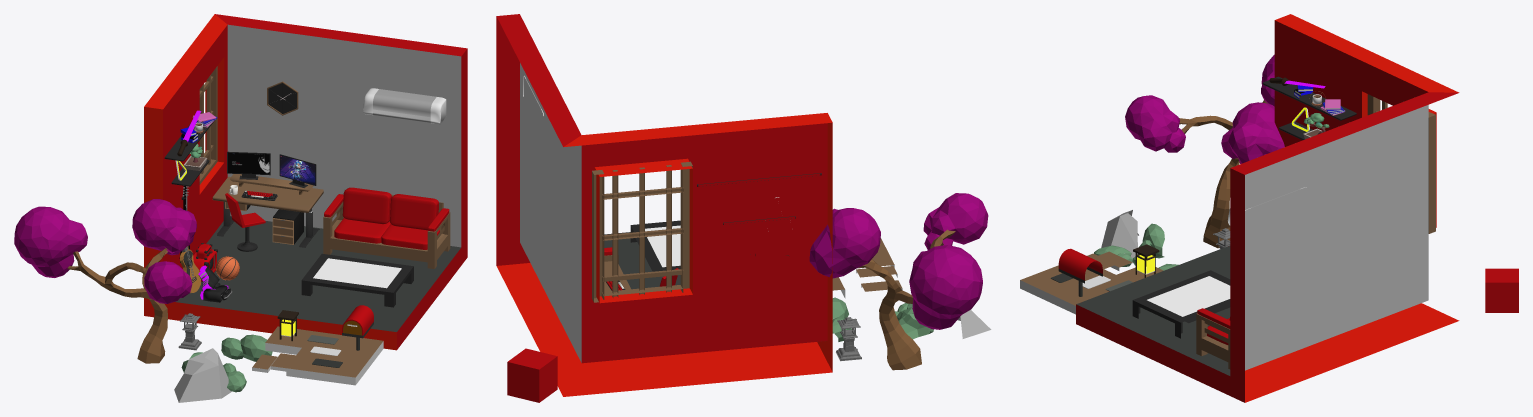
The model's file is room_v3.glb.
3 renders of one model, left to right at view 1: azimuth 30°, elevation 25°; view 2: azimuth 150°, elevation 25°; view 3: azimuth 270°, elevation 25°, orthographic. The views are drawn at different scales.
Visible parts, largest first — view 1: Body, DecoExt, Furnitures, MiniFloor, Hobbies, AirConditioner, Computers, Shelves, FloorItems, TableStuff, Clock, Mailbox (+1 smaller); view 2: Body, DecoExt, Cube, Furnitures, MiniFloor; view 3: Body, DecoExt, Furnitures, MiniFloor, Shelves, Cube, Mailbox, ExteriorLamp.
Part boxes in pixels (left/top/right/bottom): Body: left=144, top=14, right=467, bottom=350; DecoExt: left=14, top=199, right=272, bottom=402; Furnitures: left=212, top=176, right=450, bottom=307; MiniFloor: left=265, top=326, right=383, bottom=385; Hobbies: left=179, top=186, right=239, bottom=302; AirConditioner: left=363, top=88, right=446, bottom=124; Computers: left=227, top=151, right=316, bottom=187; Shelves: left=164, top=110, right=217, bottom=186; FloorItems: left=225, top=193, right=303, bottom=251; TableStuff: left=229, top=174, right=313, bottom=200; Clock: left=267, top=81, right=298, bottom=115; Mailbox: left=342, top=305, right=373, bottom=350; Body: left=496, top=14, right=832, bottom=396; DecoExt: left=809, top=193, right=991, bottom=370; Cube: left=507, top=348, right=557, bottom=402; Furnitures: left=604, top=220, right=680, bottom=291; MiniFloor: left=832, top=238, right=894, bottom=298; Body: left=1076, top=14, right=1459, bottom=402; DecoExt: left=1094, top=54, right=1284, bottom=270; Furnitures: left=1132, top=270, right=1230, bottom=369; MiniFloor: left=1020, top=265, right=1163, bottom=314; Shelves: left=1262, top=76, right=1356, bottom=140; Cube: left=1485, top=268, right=1518, bottom=312; Mailbox: left=1058, top=248, right=1102, bottom=296; ExteriorLamp: left=1133, top=244, right=1159, bottom=277.
Size of the model in its own units: 7.35 by 3.72 by 6.83.
Materials: 73 (4 with a texture image).
